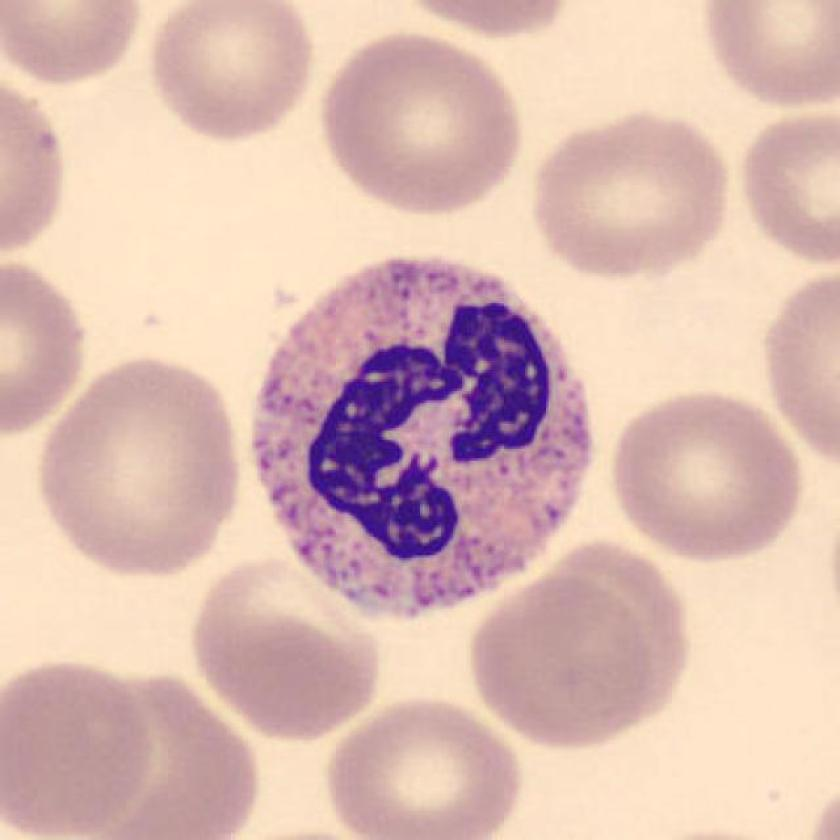neutrophil: (252, 257, 593, 613)
